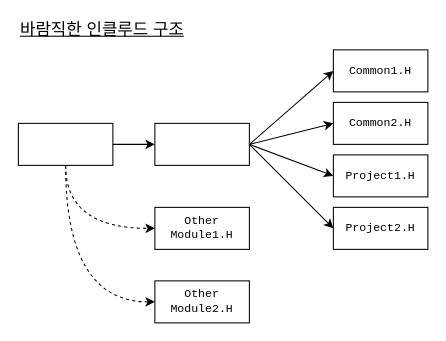
Some shapes in this 446 by 341 pixel diagram are drawn without their labels. Here are the shapes that lost their labels. From the top down, the centre of each, then its label:
At point 65,143: "Module.C".
At point 201,143: "Module.H".
